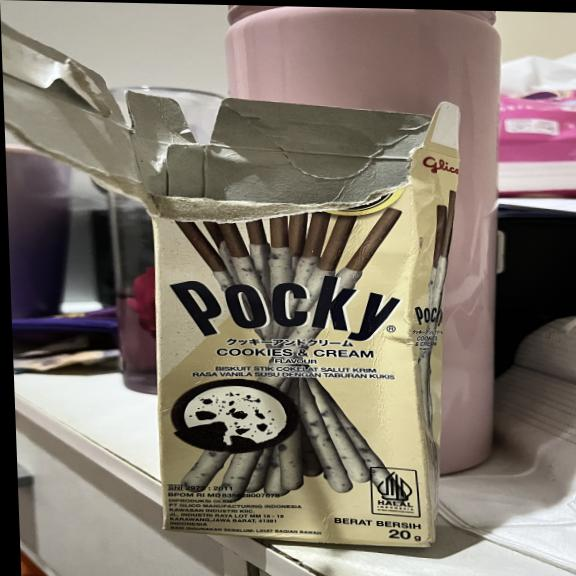Kertas: (155, 143, 463, 551)
